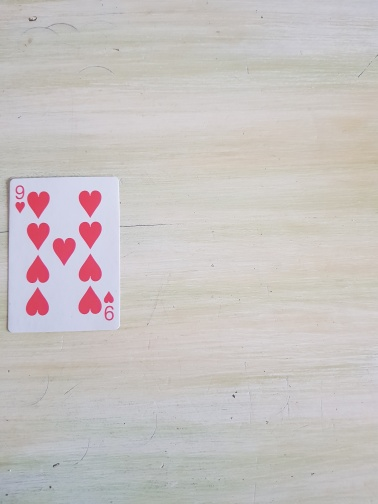nine: (6, 175, 123, 335)
